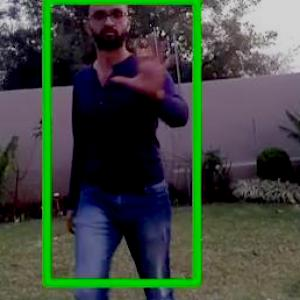follow_hand: (108, 26, 177, 100)
